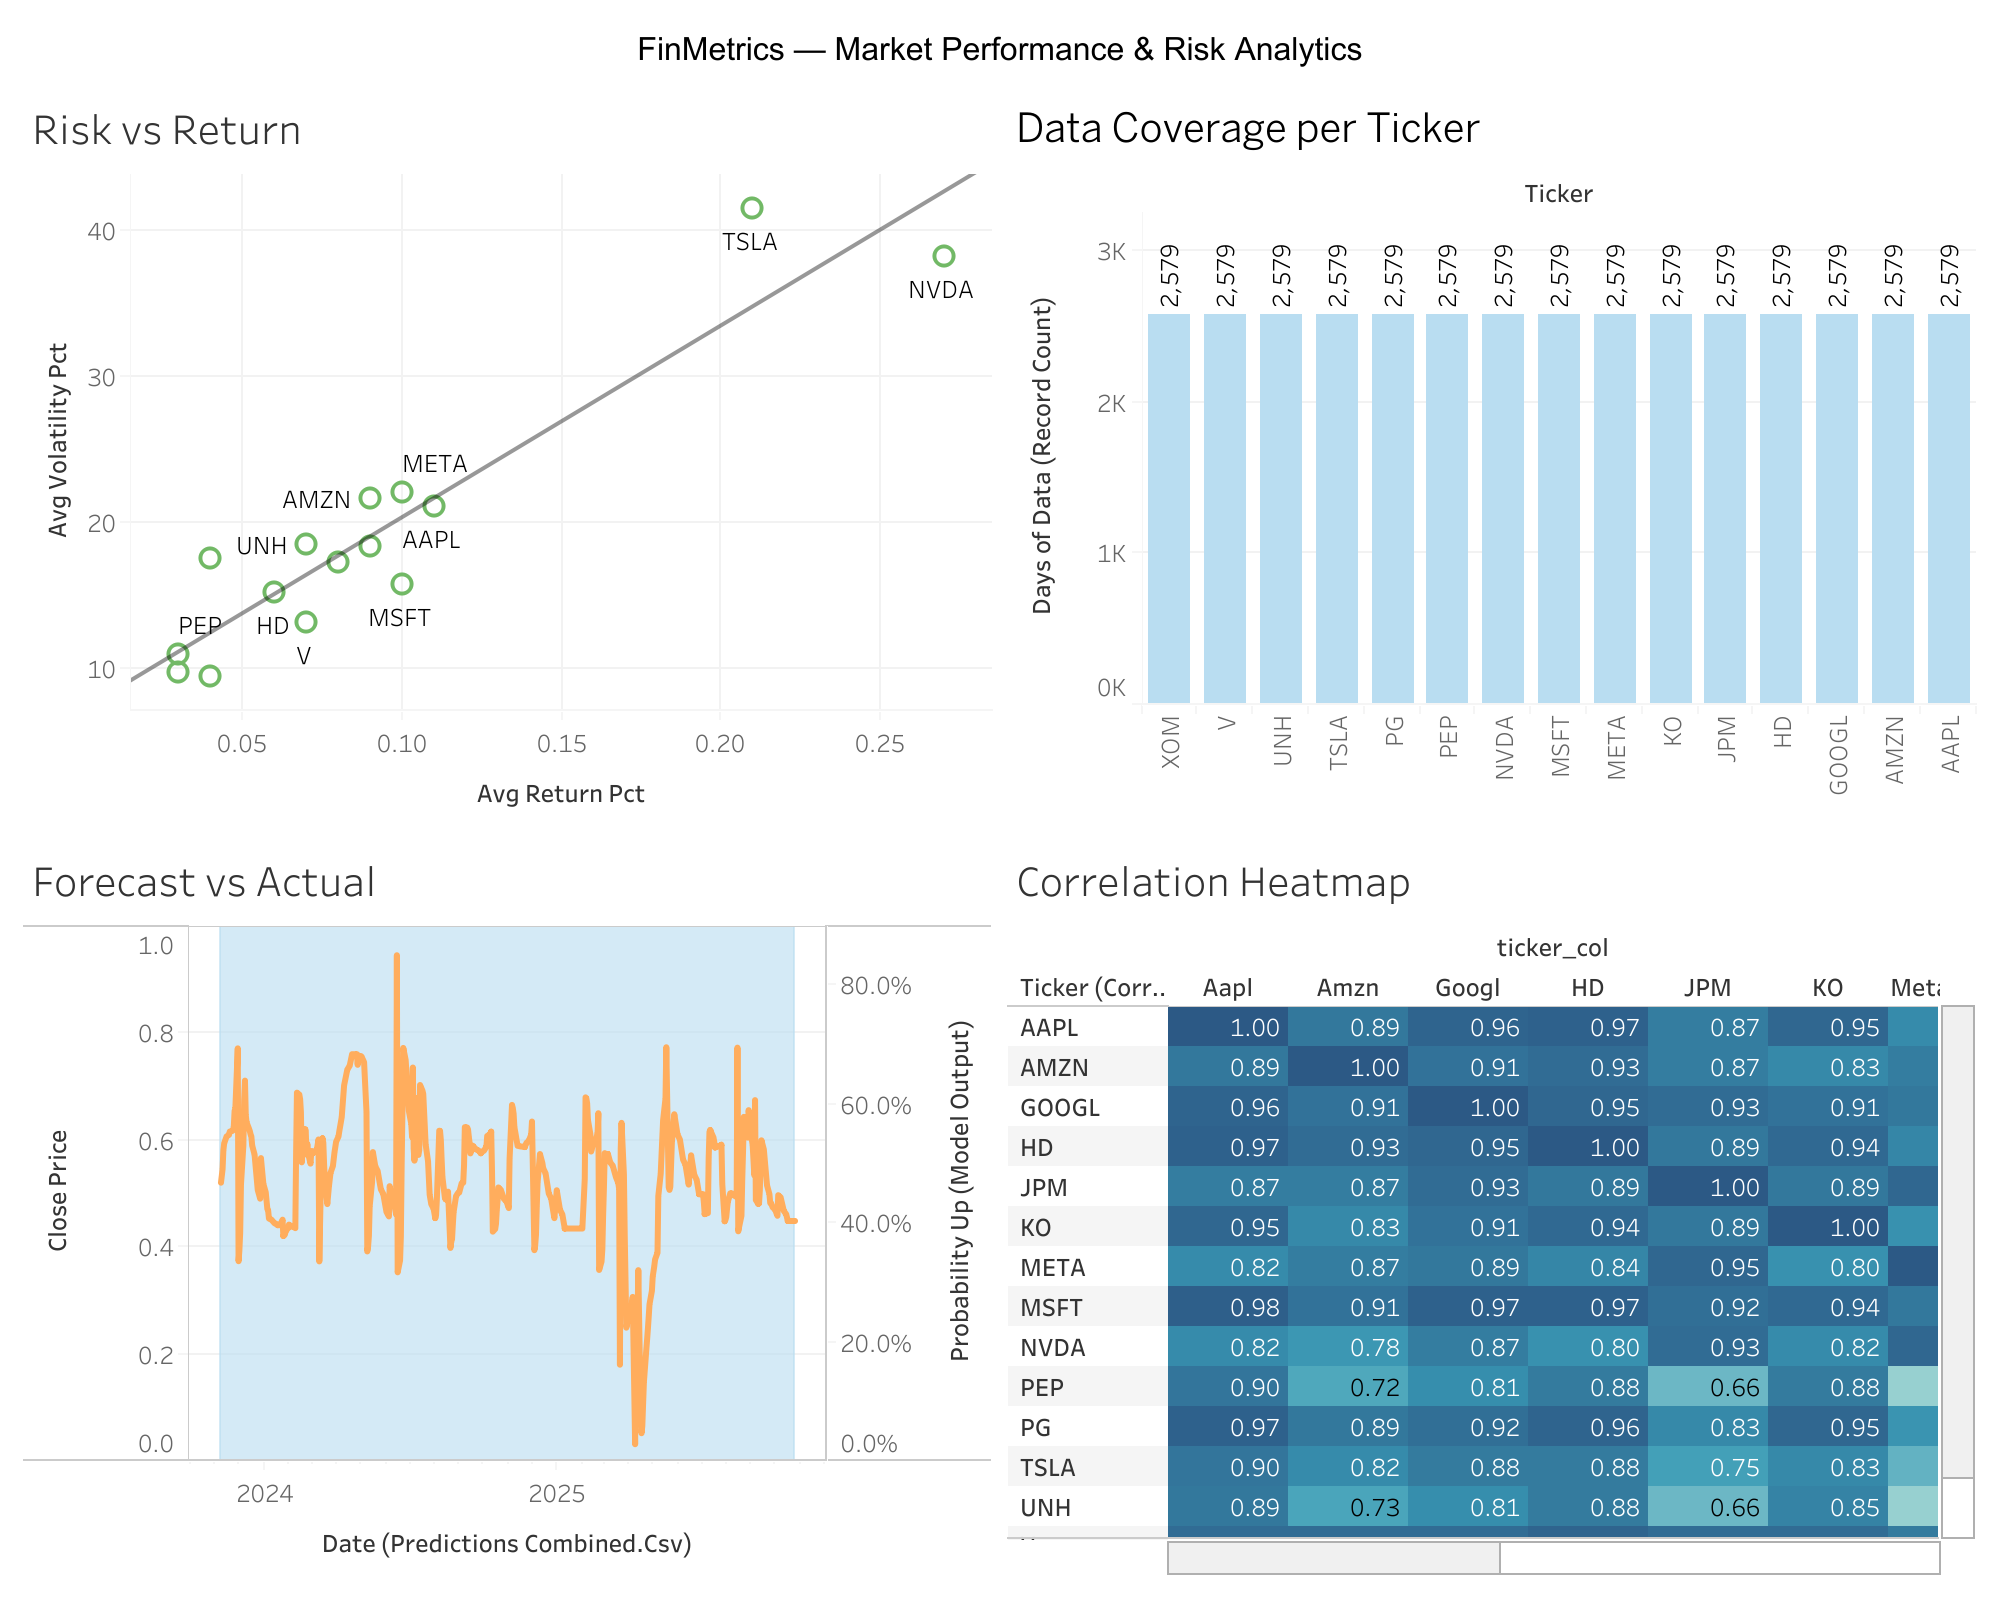

The dashboard page shown, as its layout file describes it:
{"tool":"tableau","page":{"name":"FinMetrics Dashboard","canvas":[1000,800],"ordinal":0},"visuals":[{"type":"text","box":[8,8,984,32]},{"type":"worksheet","title":"Risk vs Return","mark":"Automatic","rows":["avg_volatility_pct"],"cols":["avg_return_pct"],"box":[8,40,492,376]},{"type":"worksheet","title":"COVERAGE","mark":"Bar","rows":["rows"],"cols":["ticker"],"box":[500,40,492,376]},{"type":"worksheet","title":"Forecast vs Actual","mark":"Line","rows":["Close (predictions_combined.csv)","prob_up"],"cols":["date (predictions_combined.csv)"],"box":[8,416,492,376]},{"type":"worksheet","title":"Correlation Heatmap","mark":"Square","rows":["ticker (correlation_matrix.csv)"],"cols":["Pivot Field Names"],"box":[500,416,492,376]}]}

Visuals, with their boxes in screenshot pixels (x1, y1, x2, y2), scaled from the page's 1000x800 canvas onto the 1998x1598 screenshot:
text: locate(16, 16, 1982, 80)
"Risk vs Return" worksheet: locate(16, 80, 999, 831)
"COVERAGE" worksheet (Bar marks): locate(999, 80, 1982, 831)
"Forecast vs Actual" worksheet (Line marks): locate(16, 831, 999, 1582)
"Correlation Heatmap" worksheet (Square marks): locate(999, 831, 1982, 1582)
